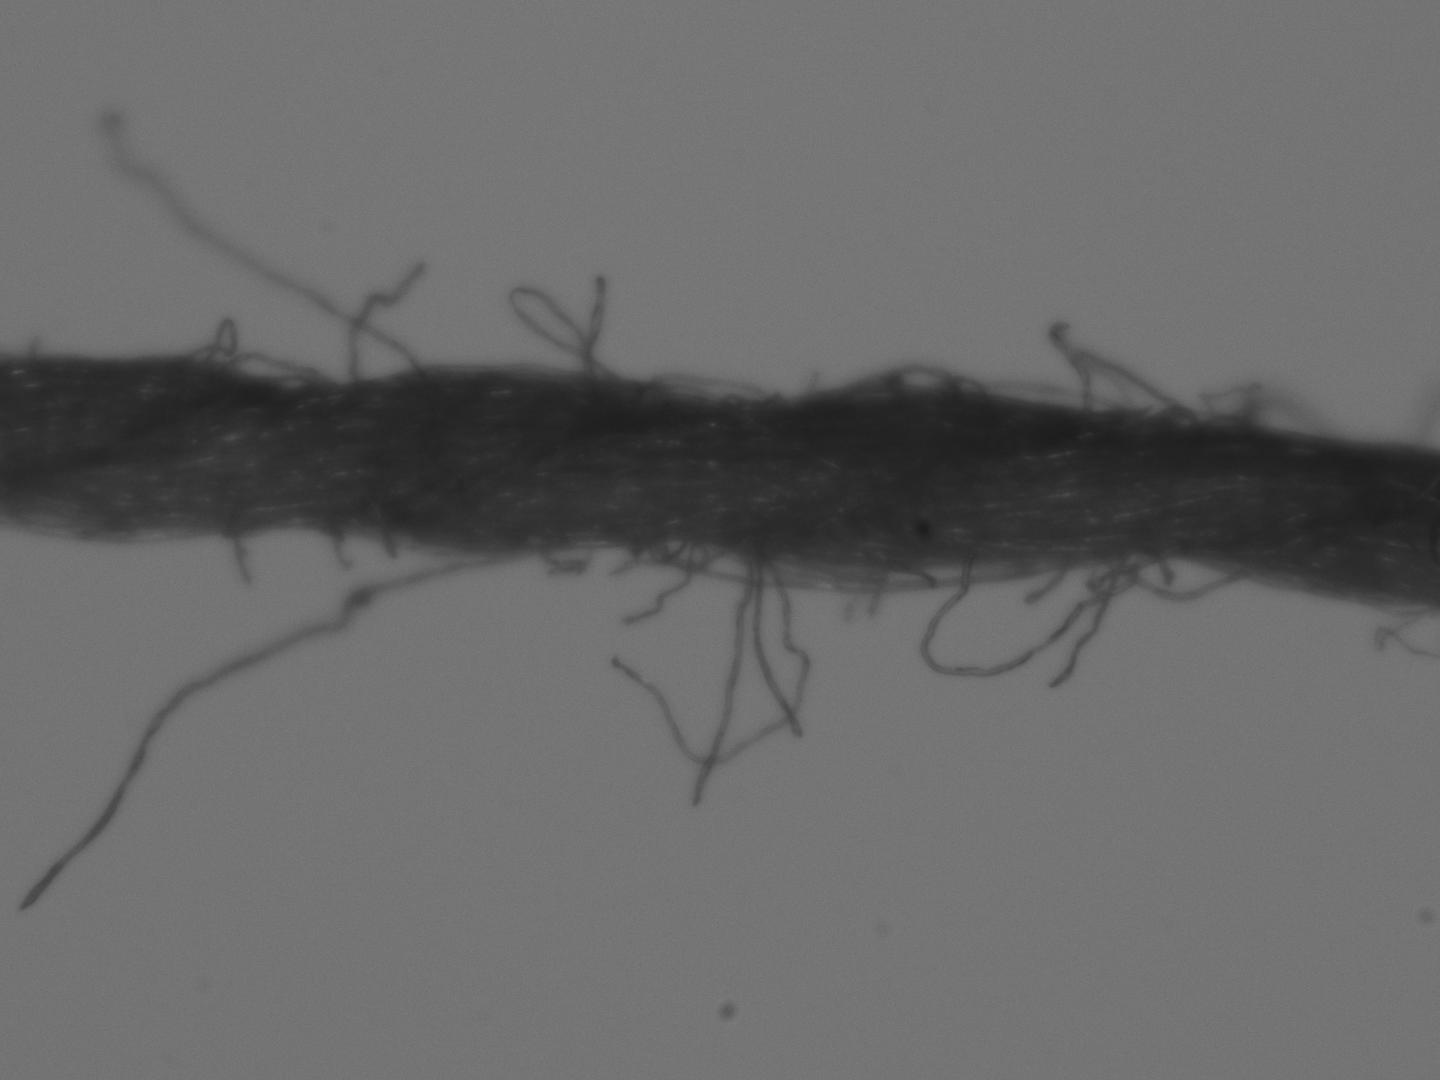loop_fiber: (916, 555, 1136, 681), (1043, 317, 1198, 429), (510, 287, 621, 387), (1109, 557, 1255, 601), (227, 353, 336, 390), (183, 315, 245, 361)
protruding_fiber: (19, 547, 528, 916), (93, 110, 429, 371), (602, 550, 820, 770), (686, 542, 755, 809), (347, 254, 431, 386), (622, 539, 728, 628), (582, 276, 605, 377)
